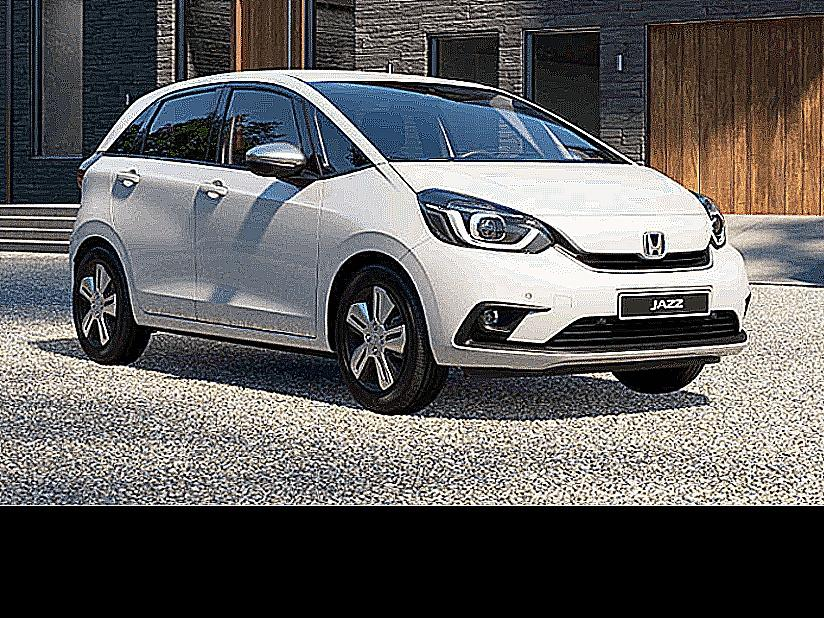Car hood: (383, 156, 717, 263)
Driver-s door - -F-R-: (197, 77, 320, 342)
Fender - -F-R-: (315, 157, 435, 355)
Fender - -R-R-: (78, 164, 141, 322)
Front bumper: (397, 238, 755, 385)
Headlight - -L-: (686, 186, 731, 258)
Headlight - -R-: (409, 182, 557, 260)
Passenger-s door - -R-R-: (111, 79, 209, 336)
Rear light - -R-: (75, 147, 111, 192)
Side bumper - -R-: (127, 301, 337, 363)
Side mirror - -R-: (239, 139, 323, 191)
